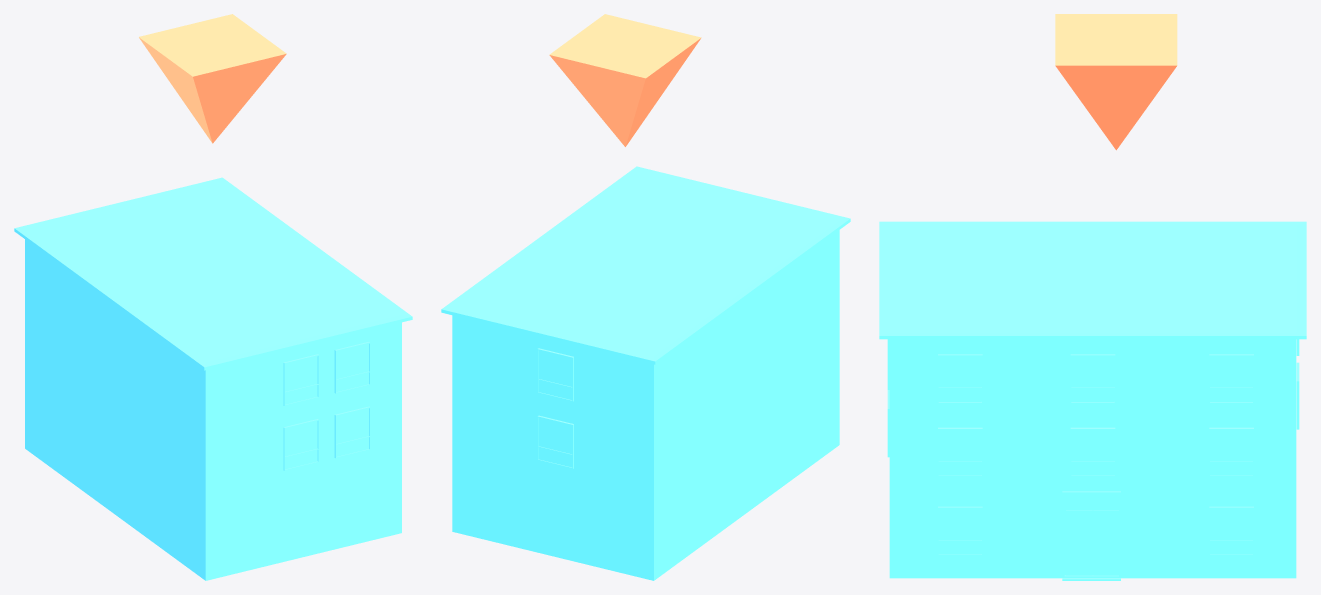
The model's file is build1.gltf.
The picture shows the model from 3 angles, left to right: view 1: azimuth 30°, elevation 25°; view 2: azimuth 150°, elevation 25°; view 3: azimuth 270°, elevation 25°; orthographic projection. The views are drawn at different scales.
Parts seen in each view (by area): view 1: subject, fire-mark; view 2: subject, fire-mark; view 3: subject, fire-mark.
Boxes of the visible parts, x1,y1,x2,y2 form: subject: (14,177,412,580); fire-mark: (139,14,286,143); subject: (441,166,850,580); fire-mark: (549,14,701,146); subject: (879,221,1306,580); fire-mark: (1055,14,1177,150).
Size of the model in its own units: 9.81 by 19.64 by 15.51.
